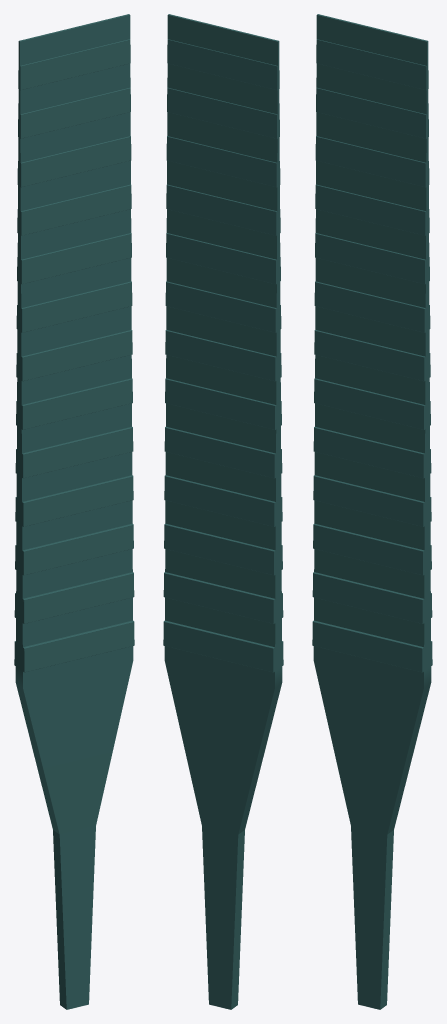
Rendered from lixa low.fbx.
The picture shows the model from 3 angles, left to right: view 1: azimuth 30°, elevation 25°; view 2: azimuth 150°, elevation 25°; view 3: azimuth 330°, elevation 25°; orthographic projection.
Parts seen in each view (by area): view 1: lixa_low; view 2: lixa_low; view 3: lixa_low.
Part boxes in pixels (<box>): lixa_low: <box>14,14,134,1009</box>; lixa_low: <box>163,14,283,1009</box>; lixa_low: <box>312,14,432,1009</box>.
Size of the model in its own units: 5.17 by 43.8 by 0.824.
